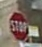stop: (7, 8, 30, 43)
